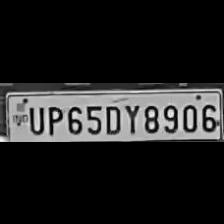0: (179, 100, 197, 132)
5: (84, 100, 103, 134)
6: (198, 100, 218, 132), (64, 102, 82, 134)
8: (140, 100, 160, 134)
9: (160, 101, 178, 133)
D: (102, 100, 122, 134)
P: (45, 102, 63, 136)
U: (26, 102, 44, 134)
Y: (122, 100, 140, 134)
